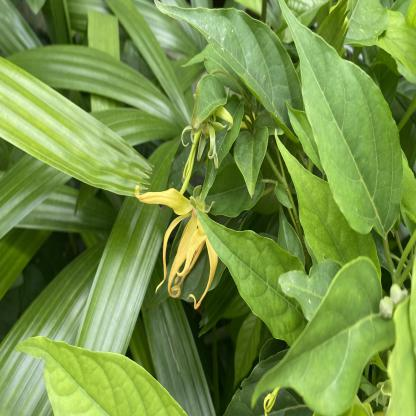Kenanga: (152, 163, 223, 309), (175, 85, 243, 195)
